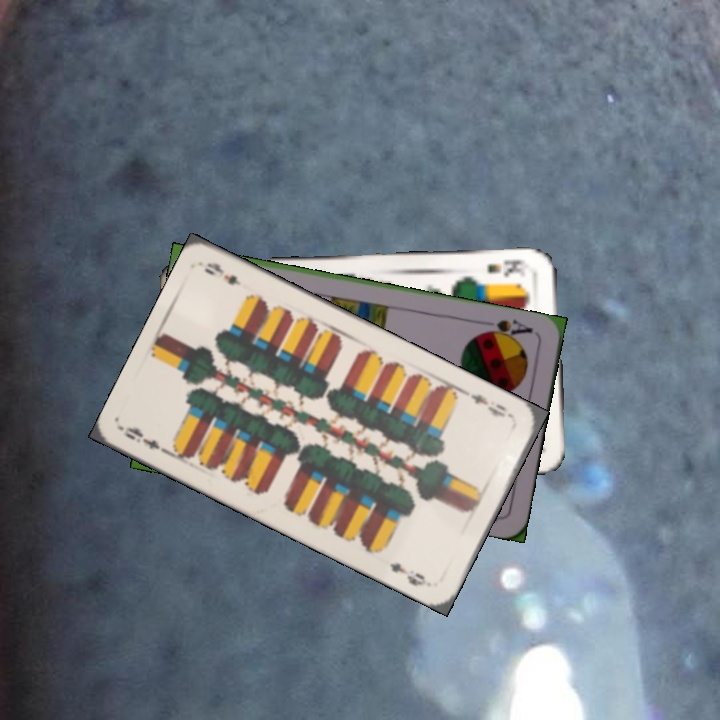E9: (119, 422, 178, 459), (466, 389, 517, 421)
EK: (482, 255, 533, 280)
SA: (477, 315, 535, 344)
